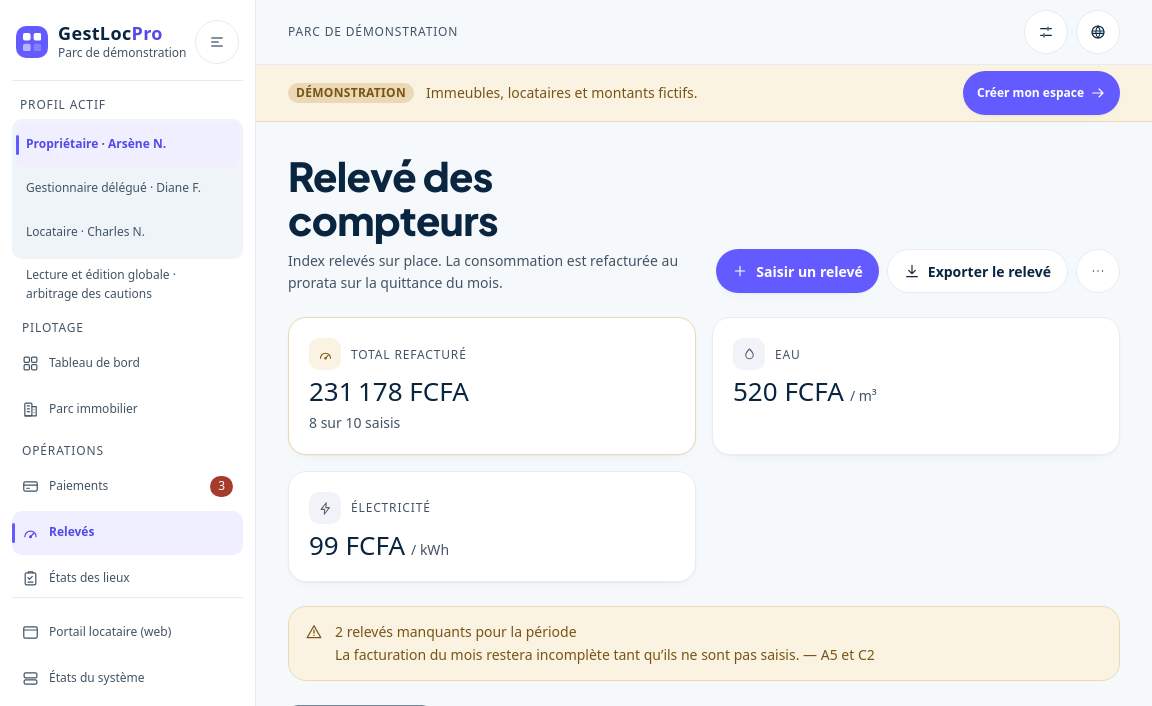
Test: le tableau des prix de refacturation › charge la ligne dans le formulaire, et le pied DIT le geste
Click the button named "Autres actions" at (1098, 271), box [1076,249,1120,293]
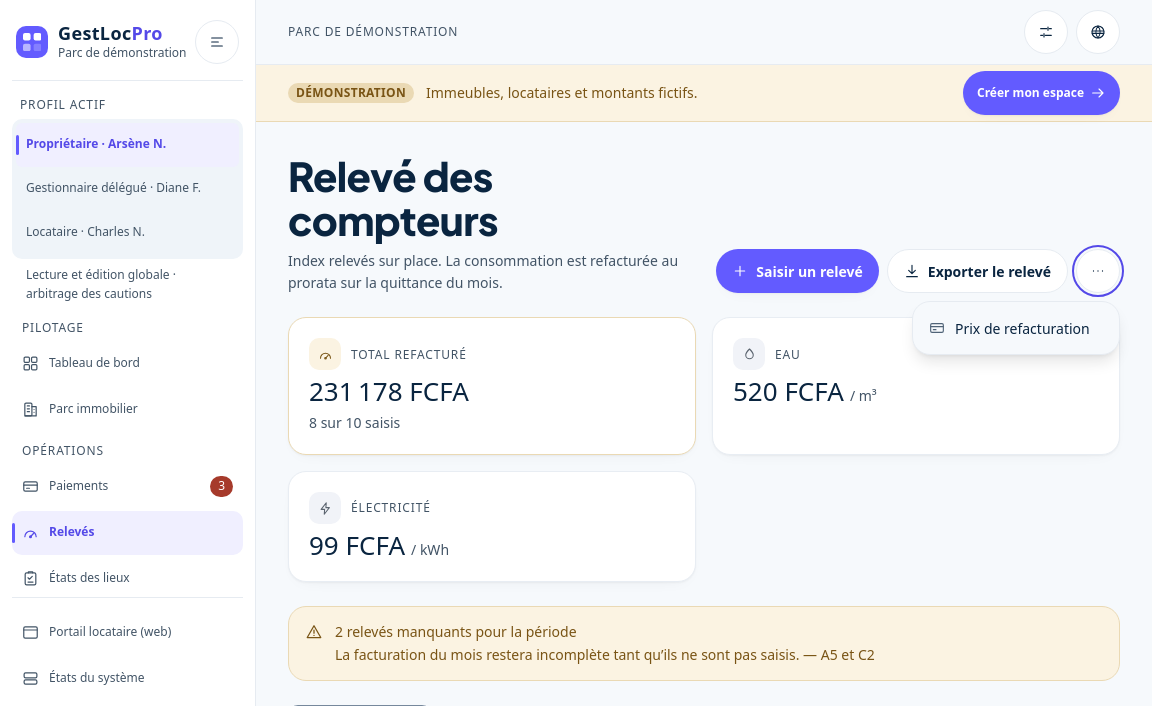
Click the menu item "Prix de refacturation" at (1016, 328), box [917,306,1115,350]
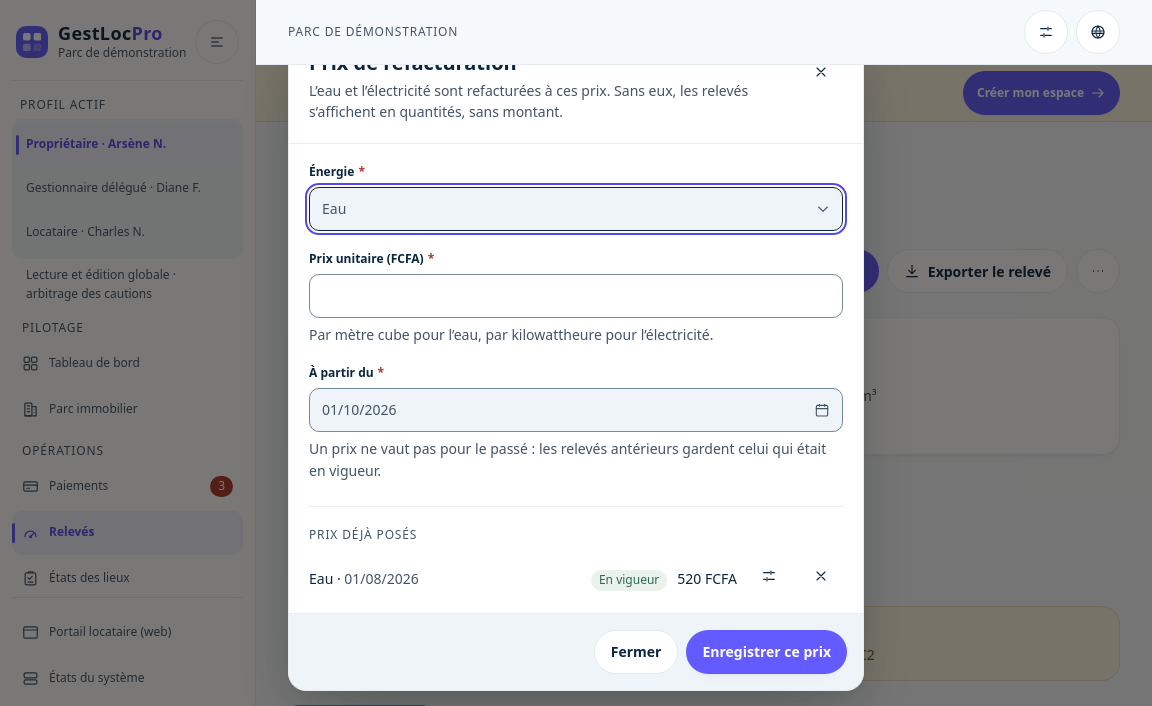
Expected: the dialog is shown, [288,29,864,691]
Expected: the button "Enregistrer ce prix" is shown, [686,630,847,674]
Click the button named "Corriger le prix — " at (769, 576), box [747,554,791,598]
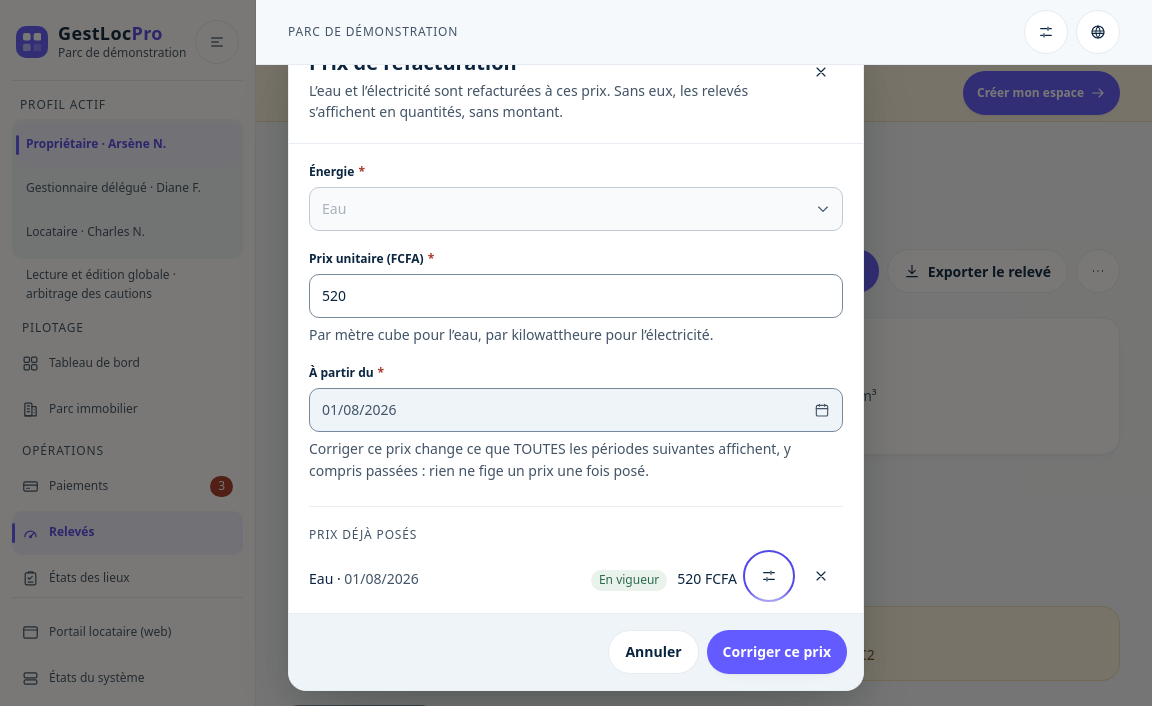
Expected: the button "Corriger ce prix" is shown, [707,630,847,674]
Expected: the button "Enregistrer ce prix" is gone
